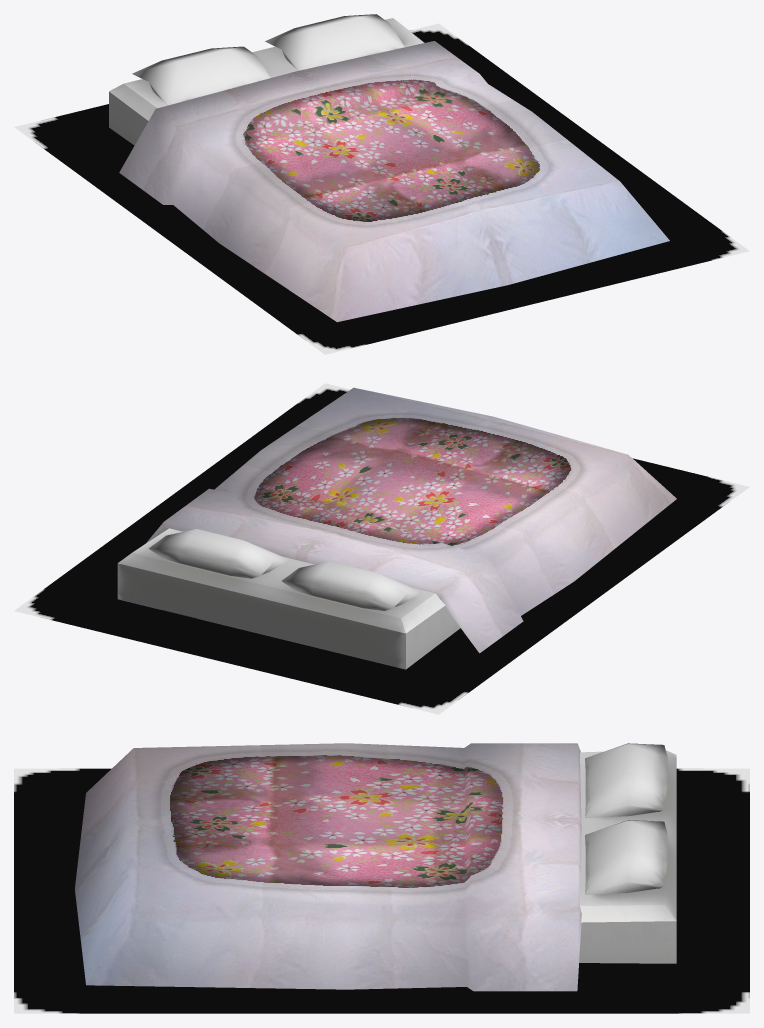
Rendered from jj_rixi_chuang01.FBX.
The picture shows the model from 3 angles, top to bottom: view 1: azimuth 30°, elevation 25°; view 2: azimuth 150°, elevation 25°; view 3: azimuth 270°, elevation 25°; orthographic projection. The views are drawn at different scales.
Parts seen in each view (by area): view 1: jj_rixi_chuang01, shadow; view 2: jj_rixi_chuang01, shadow; view 3: jj_rixi_chuang01, shadow.
Boxes of the visible parts, box(x1,y1,x2,y2) form: jj_rixi_chuang01: box(109, 14, 669, 322); shadow: box(14, 23, 749, 354); jj_rixi_chuang01: box(117, 387, 676, 669); shadow: box(14, 383, 749, 714); jj_rixi_chuang01: box(75, 743, 676, 991); shadow: box(14, 768, 749, 1013).
Bounding box in the file's own units: 290 × 50.49 × 368.
